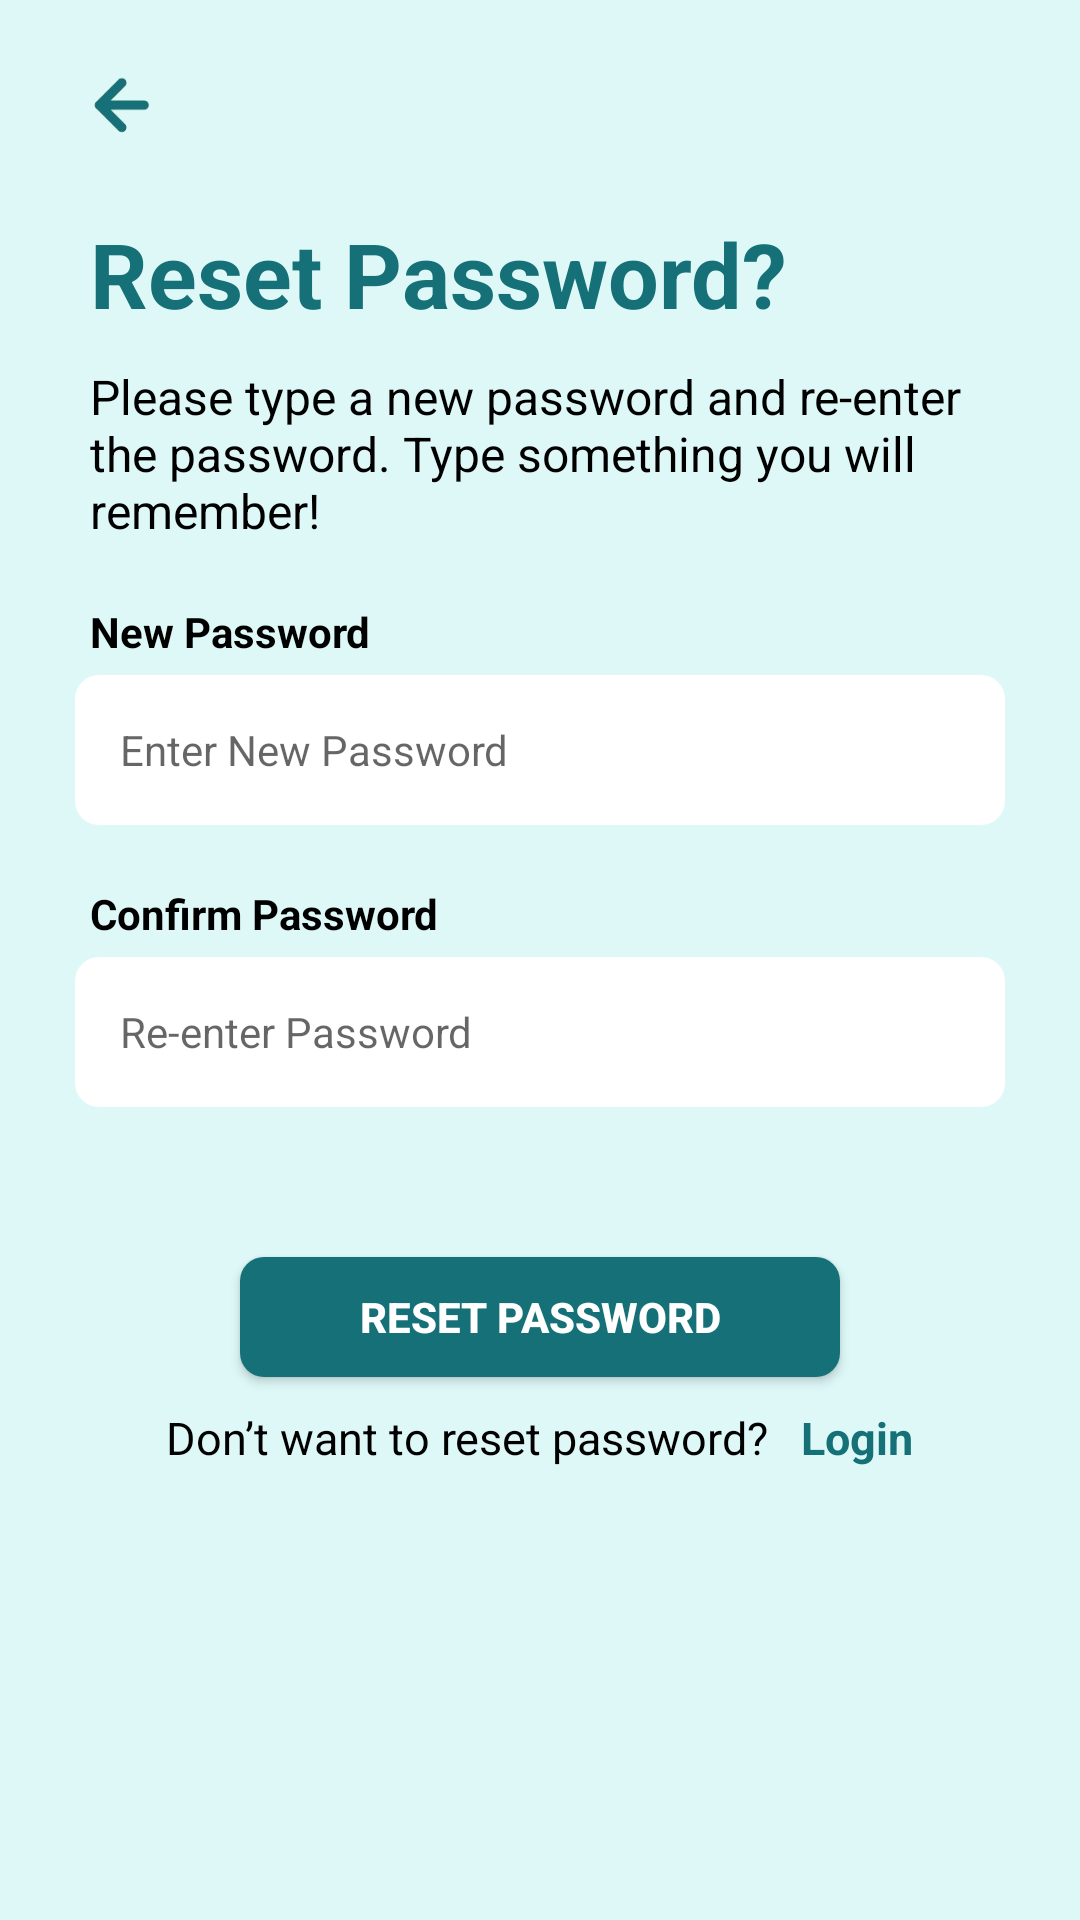

Named icons in this screenshot (1080x1920) and their centers, (x=x, y=y):
back arrow: (x=121, y=105)
